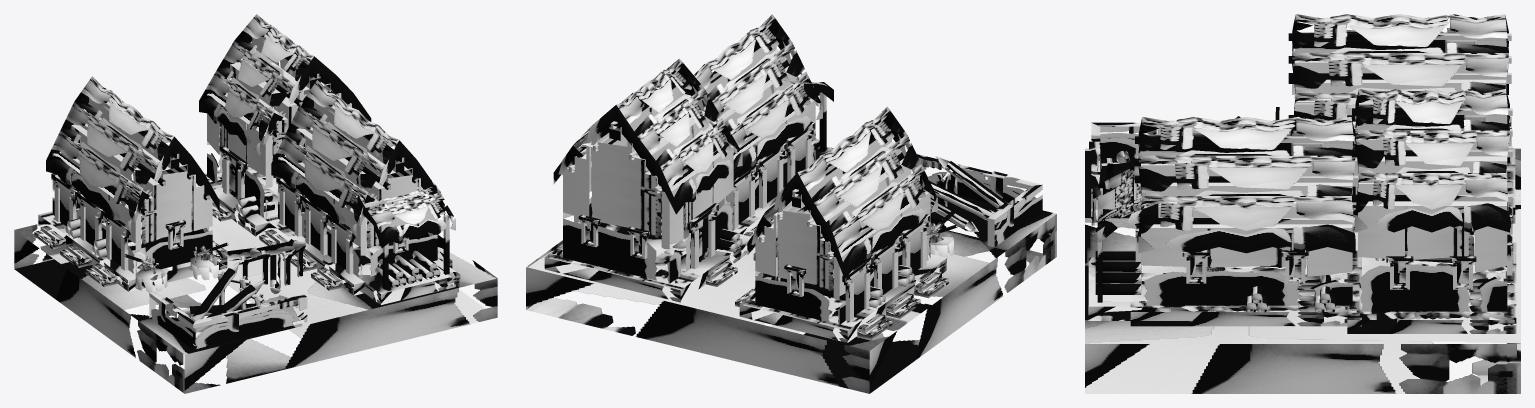
The model's file is arsenal.dae.
3 views of the same model, side by side, from view 1: azimuth 30°, elevation 25°; view 2: azimuth 150°, elevation 25°; view 3: azimuth 270°, elevation 25° (orthographic). The views are drawn at different scales.
Parts seen in each view (by area): view 1: arsenal; view 2: arsenal; view 3: arsenal.
Boxes of the visible parts, x1,y1,x2,y2 form: arsenal: (14, 14, 497, 393); arsenal: (526, 14, 1056, 393); arsenal: (1085, 14, 1520, 393).
Size of the model in its own units: 26.71 by 25.21 by 16.44.
